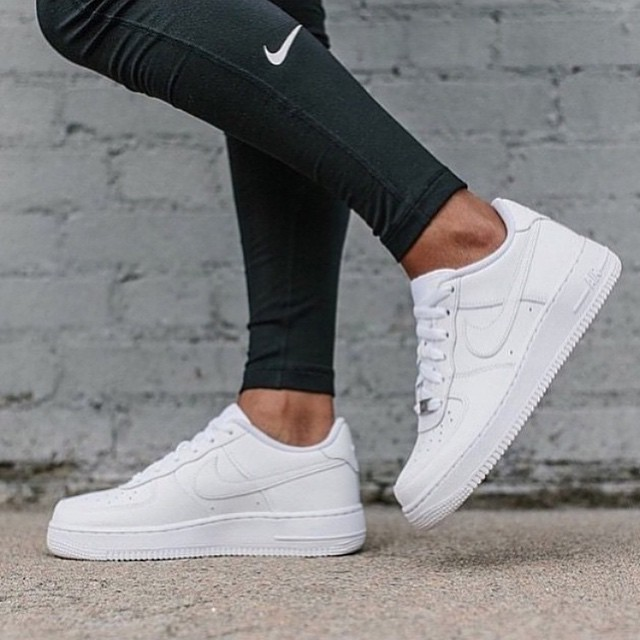sneaker: (344, 171, 640, 555), (23, 367, 385, 580)
